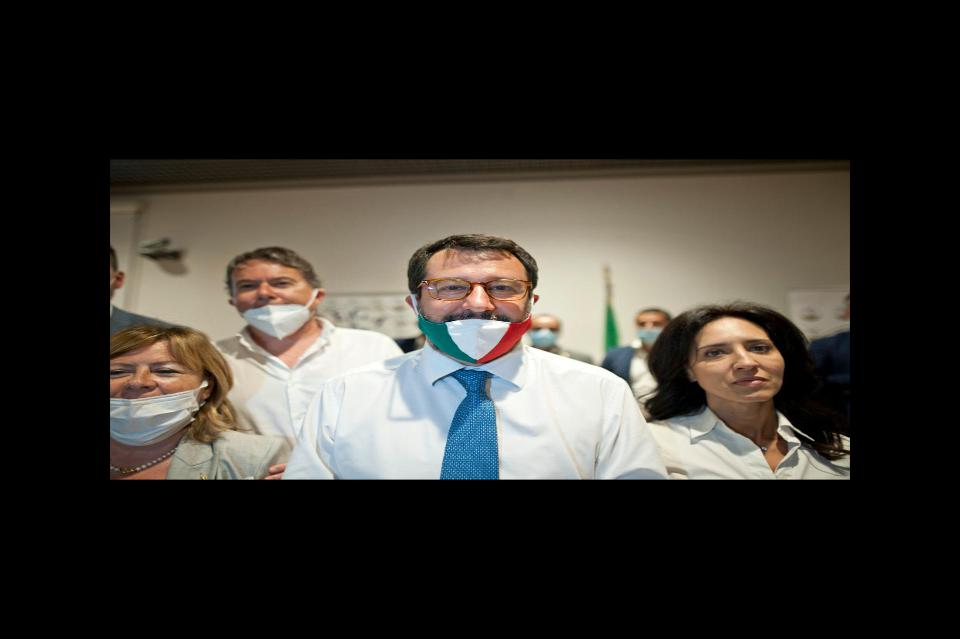mask_weared_incorrect: (426, 270, 532, 360), (231, 268, 321, 335), (112, 362, 183, 429)
with_mask: (639, 317, 665, 343), (532, 321, 559, 344)
without_mask: (695, 337, 787, 403)
